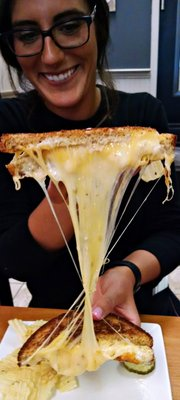curry: (0, 312, 180, 400)
